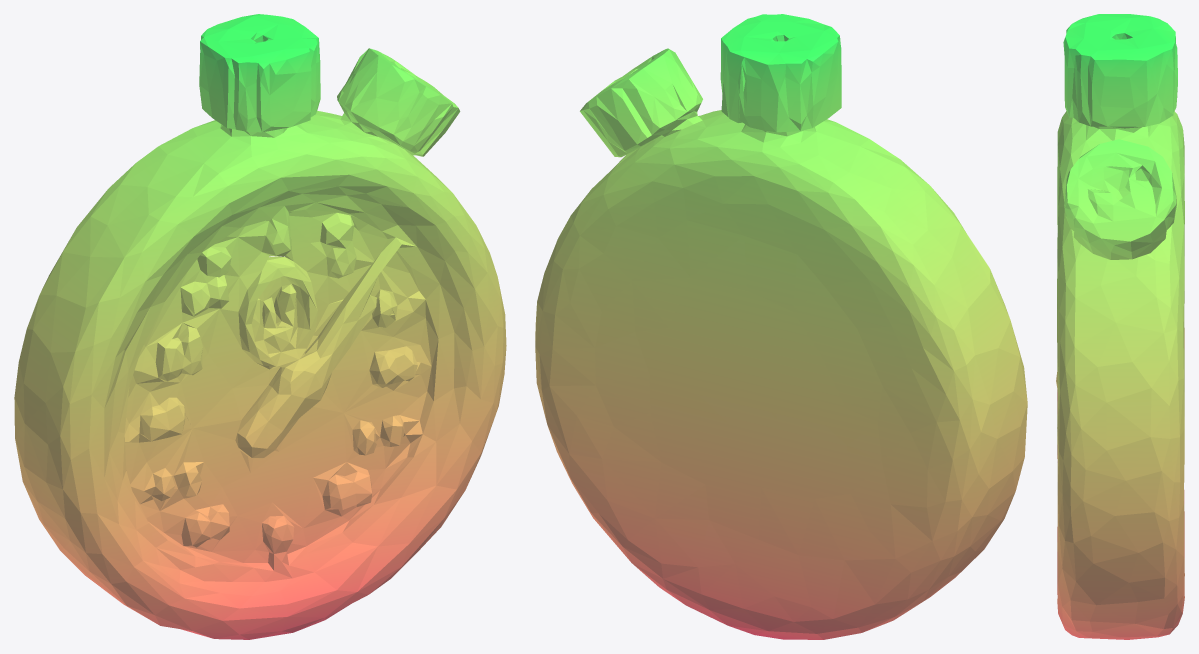
File: 5_cyb_laser_gradient_fish_scales_2835_2026_10_03_4f8b4b.glb
3 renders of one model, left to right at view 1: azimuth 30°, elevation 25°; view 2: azimuth 150°, elevation 25°; view 3: azimuth 270°, elevation 25°, orthographic.
Parts seen in each view (by area): view 1: geometry_0; view 2: geometry_0; view 3: geometry_0.
Boxes of the visible parts, box(x1,y1,x2,y2) form: geometry_0: box(14, 14, 506, 639); geometry_0: box(535, 14, 1027, 639); geometry_0: box(1056, 14, 1184, 639).
Size of the model in its own units: 0.7547 by 0.9316 by 0.1872.
